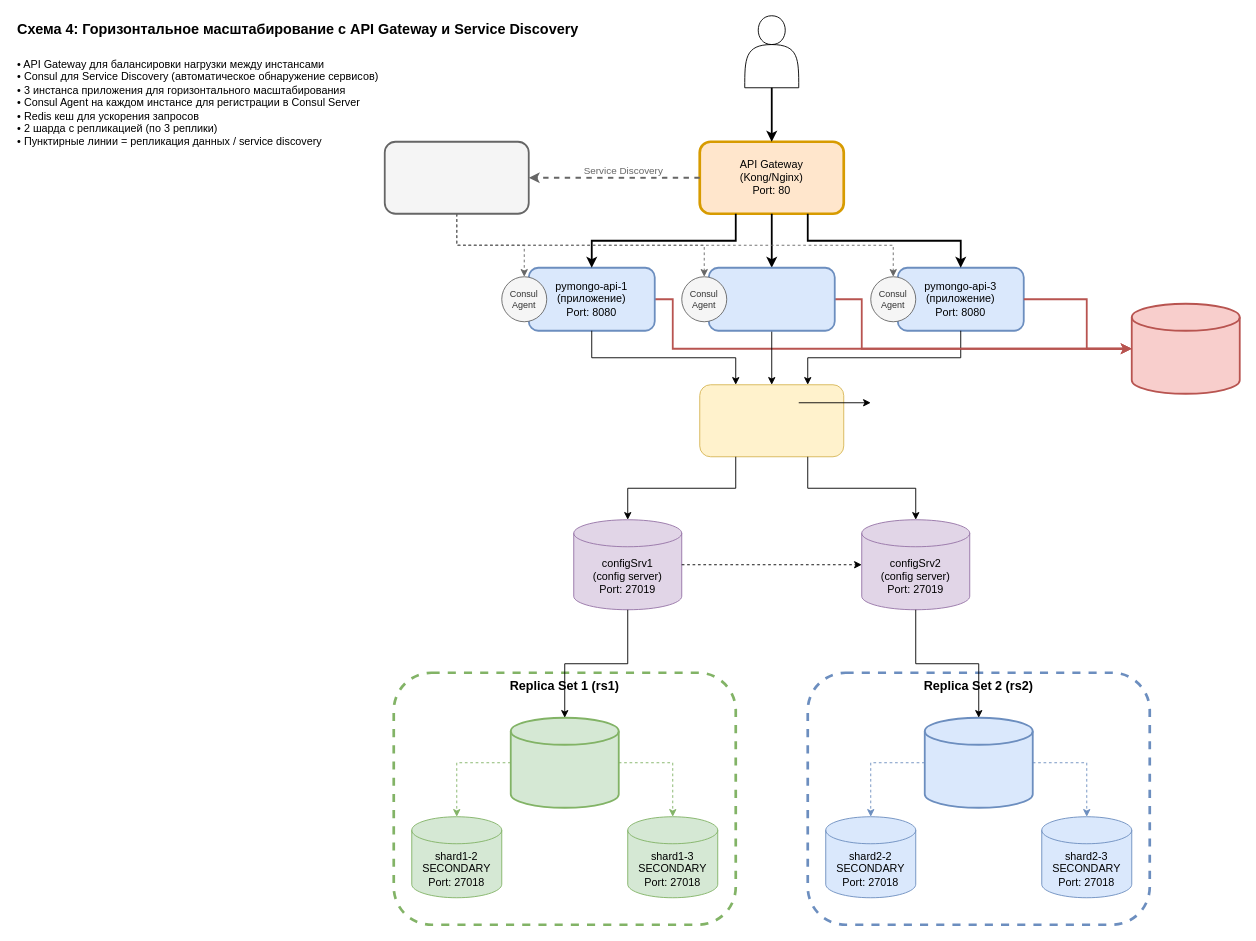
This 1256x941 diagram has some shape labels left out. The shapes that lost their labels are listed below. From the top down, each one's centre as x and y in pixels, then its label:
the point at 771,51: Клиенты
the point at 456,177: Consul Server (Service Discovery) Port: 8500
the point at 771,298: pymongo-api-2 (приложение) Port: 8080
the point at 1185,348: Redis (кеш) Port: 6379
the point at 771,420: mongos (роутер) Port: 27017
the point at 564,762: shard1-1 PRIMARY Port: 27018
the point at 978,762: shard2-1 PRIMARY Port: 27018
